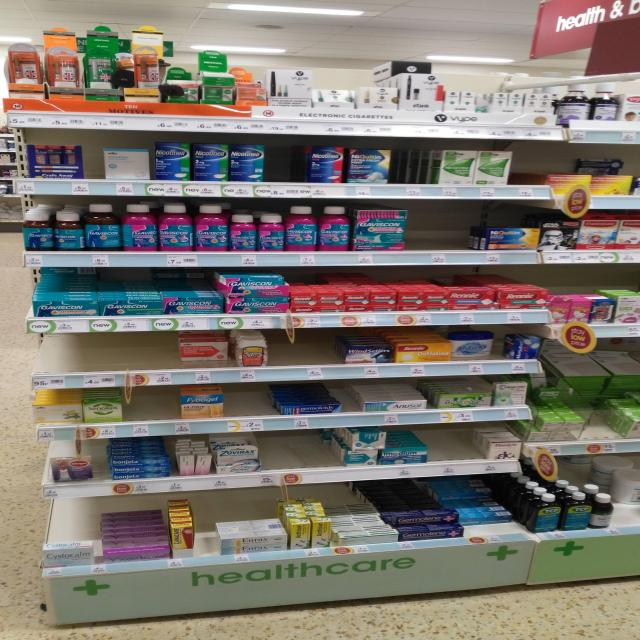empty: (43, 334, 174, 369), (410, 207, 471, 247), (265, 436, 333, 466), (270, 336, 337, 364), (268, 139, 309, 182), (428, 428, 477, 460), (129, 393, 178, 422), (227, 387, 271, 411), (391, 145, 418, 183), (515, 150, 543, 186), (197, 526, 217, 555)
